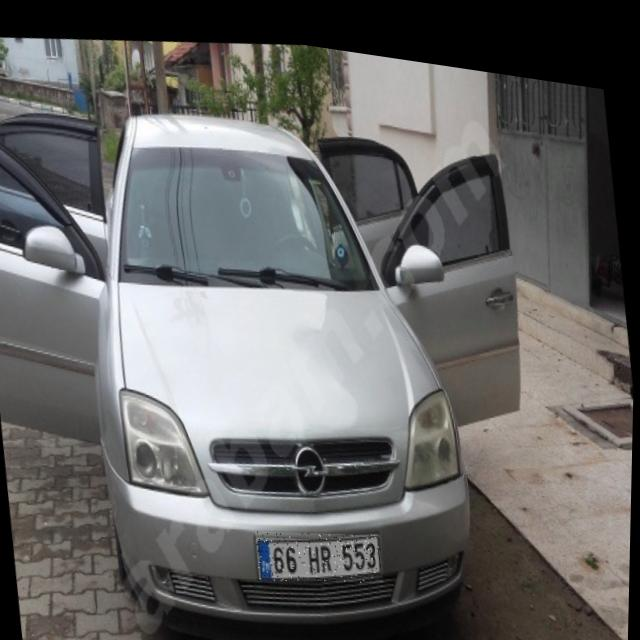license_plate: (256, 508, 386, 586)
